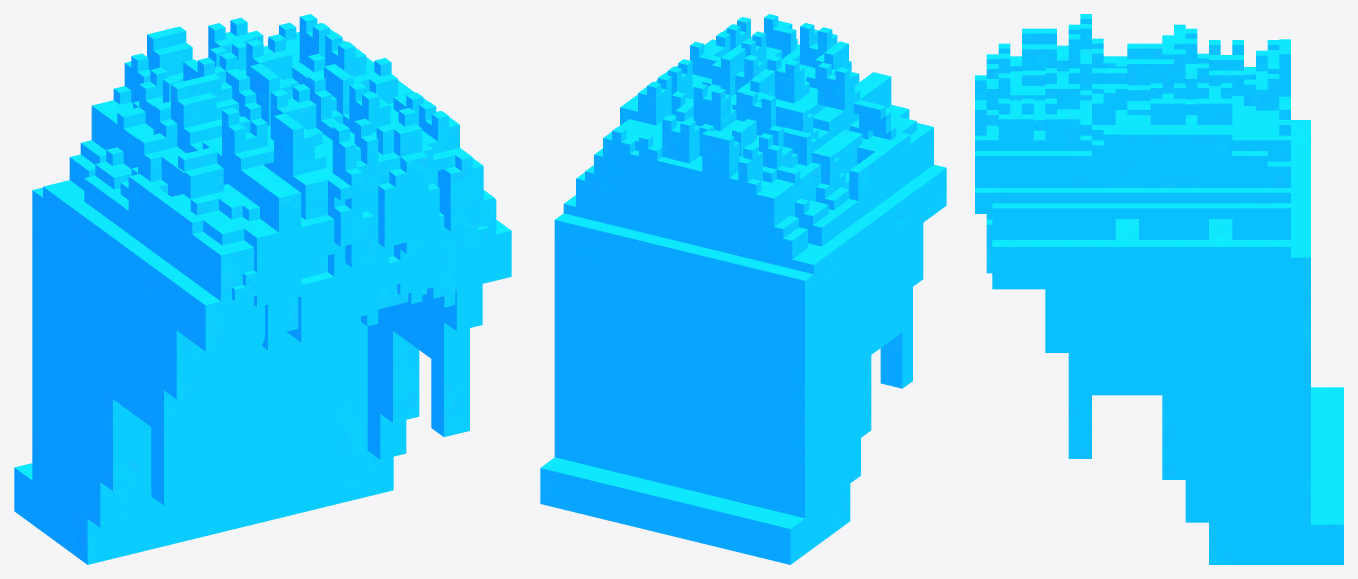
Rendered from mullet_aqua.glb.
The picture shows the model from 3 angles, left to right: view 1: azimuth 30°, elevation 25°; view 2: azimuth 150°, elevation 25°; view 3: azimuth 270°, elevation 25°; orthographic projection. The views are drawn at different scales.
Visible parts, largest first — view 1: blonde_mullet; view 2: blonde_mullet; view 3: blonde_mullet.
Part boxes in pixels (x1,y1,x2,y2): blonde_mullet: [14, 14, 511, 564]; blonde_mullet: [540, 14, 946, 564]; blonde_mullet: [975, 14, 1343, 564].
Size of the model in its own units: 2.78 by 4.2 by 3.15.
Materials: 1 (1 with a texture image).
